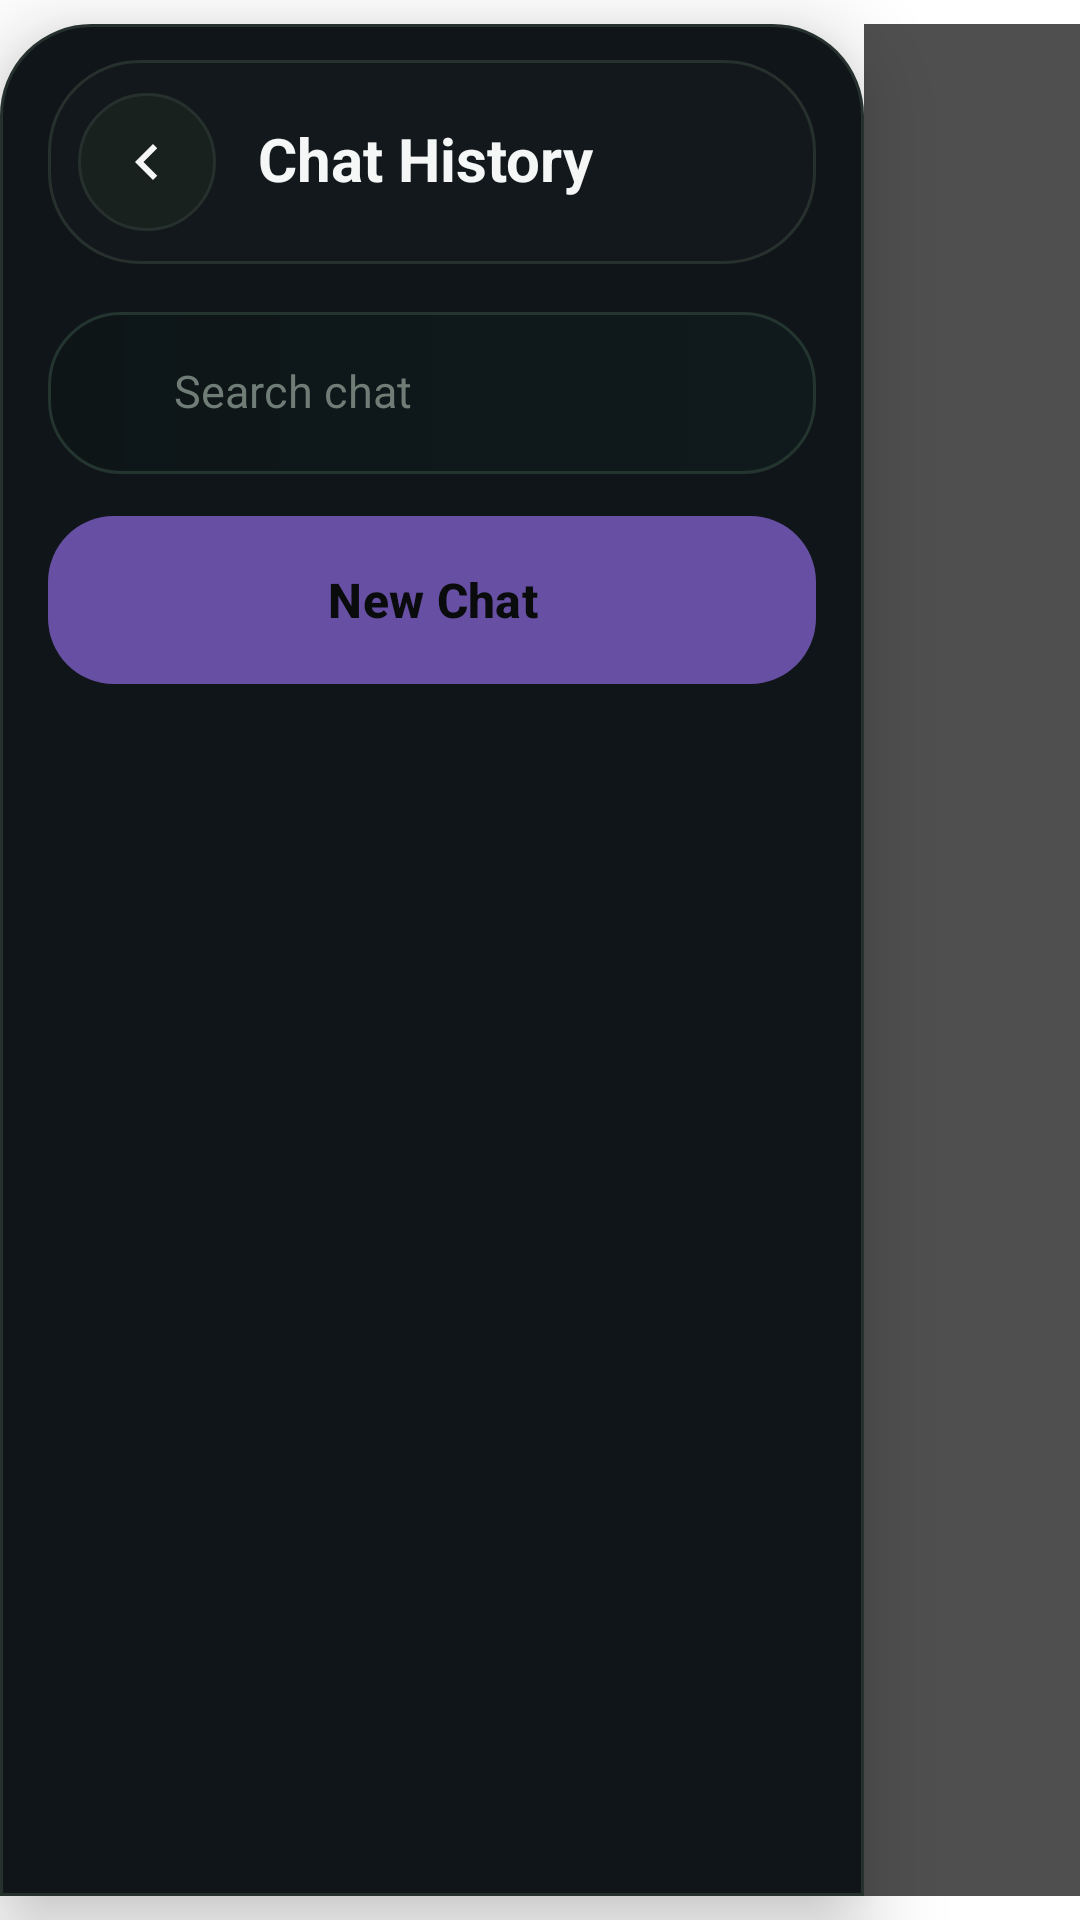

Named icons in this screenshot (1080*1920) and their centers, (x=x, y=y):
Back: (x=147, y=162)
